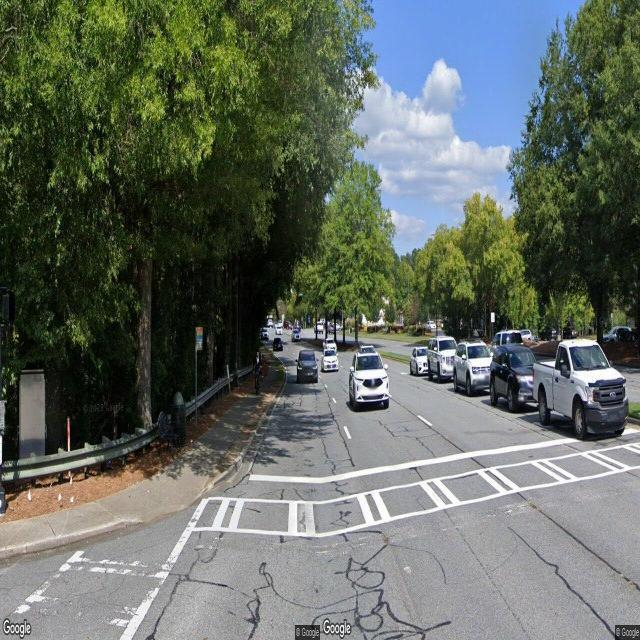seating: (158, 410, 182, 461)
trash_can: (171, 392, 187, 448)
